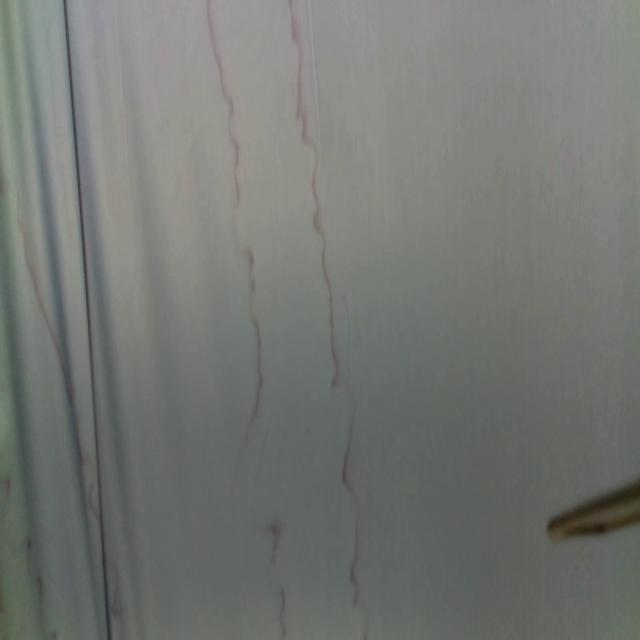crease: (63, 0, 111, 640), (308, 0, 323, 147), (116, 50, 130, 185)
